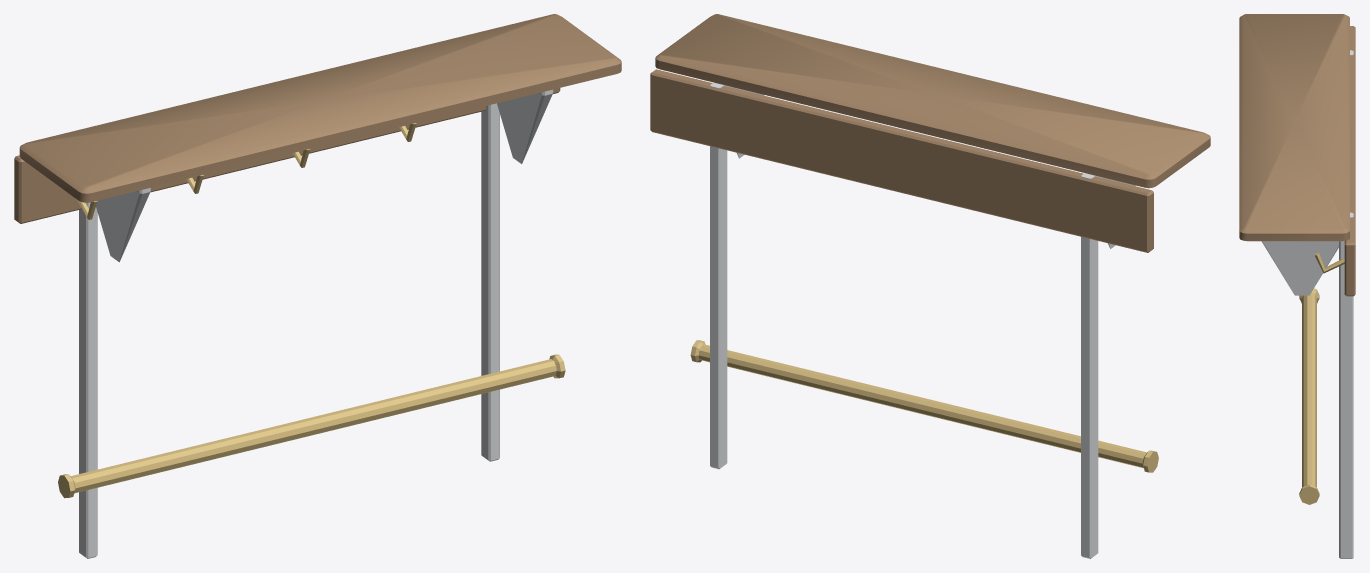
File: bar-pub-and-brewery-taproom-standing-rail-with-shelf-18677f87__18408.glb
The picture shows the model from 3 angles, left to right: view 1: azimuth 30°, elevation 25°; view 2: azimuth 150°, elevation 25°; view 3: azimuth 270°, elevation 25°; orthographic projection. The views are drawn at different scales.
Parts seen in each view (by area): view 1: standing-rail-with-shelf; view 2: standing-rail-with-shelf; view 3: standing-rail-with-shelf.
Boxes of the visible parts, x1=… form: standing-rail-with-shelf: x1=14, y1=14, x2=621, y2=558; standing-rail-with-shelf: x1=650, y1=14, x2=1210, y2=558; standing-rail-with-shelf: x1=1239, y1=14, x2=1355, y2=558.
Bounding box in the file's own units: 1.4 × 1.06 × 0.315.
